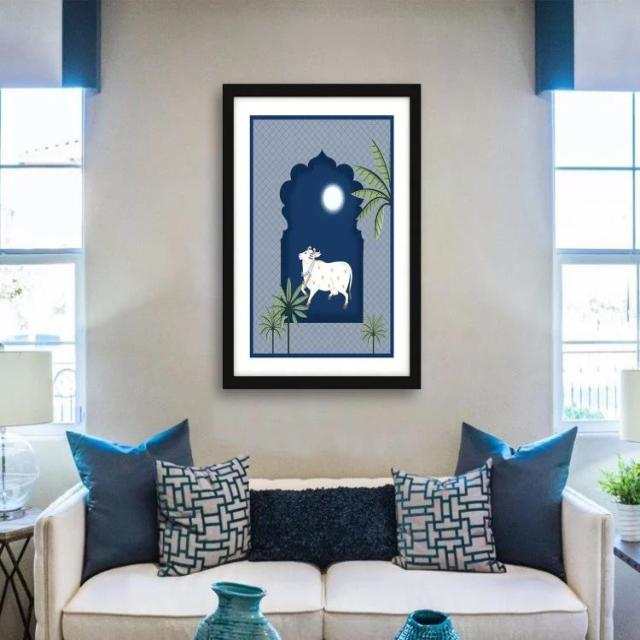painting: (222, 82, 422, 390)
